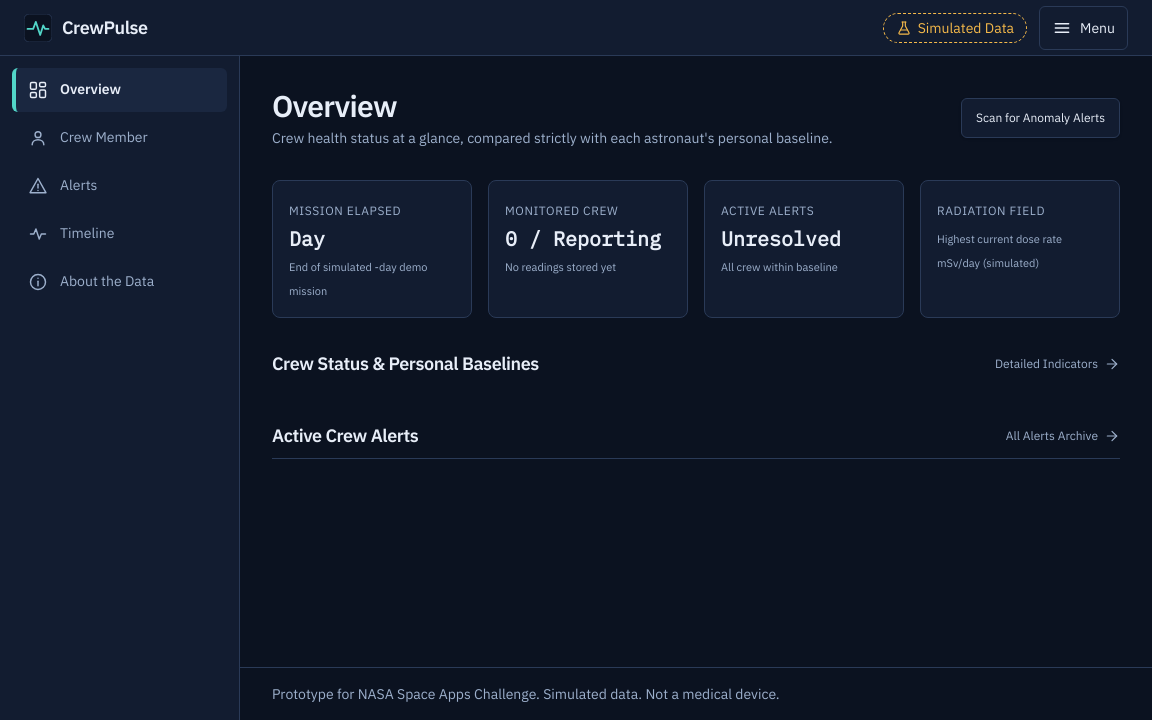
App shell › offers all five routes and navigates between them
Click the link "Alerts": (63, 186) [28, 176, 97, 196]
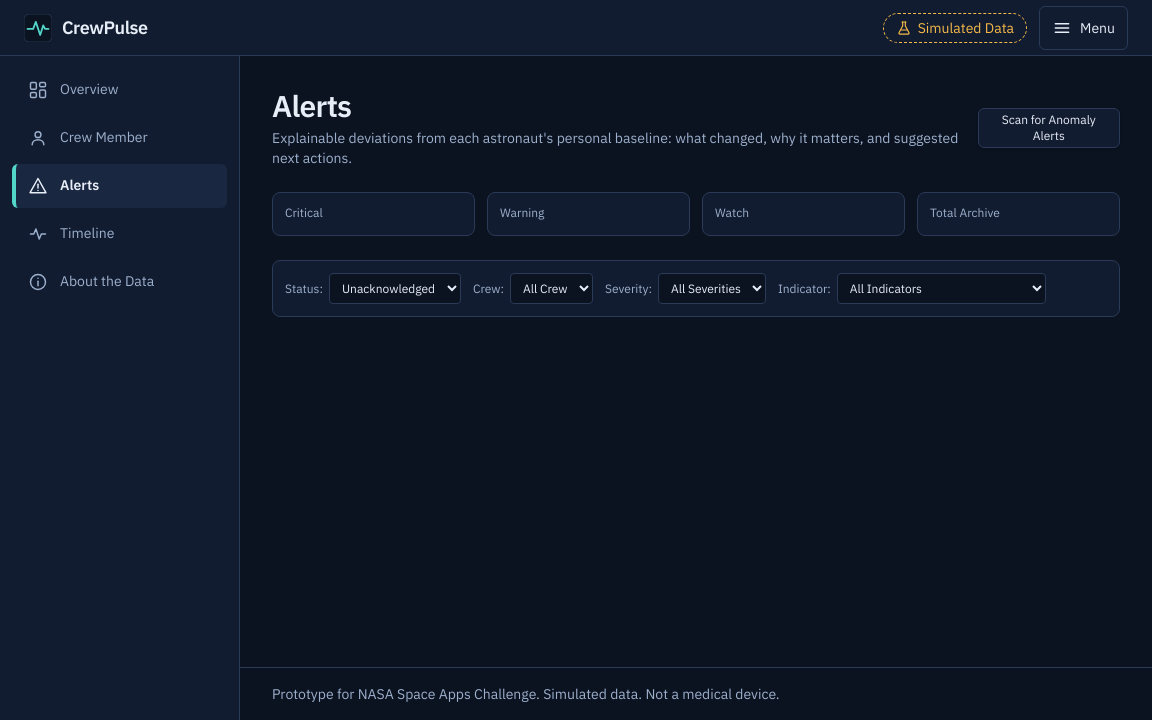
Check: the heading "Alerts" is shown, box [272, 88, 351, 124]
Check: the link "Alerts" is marked as current, box [12, 164, 227, 208]
